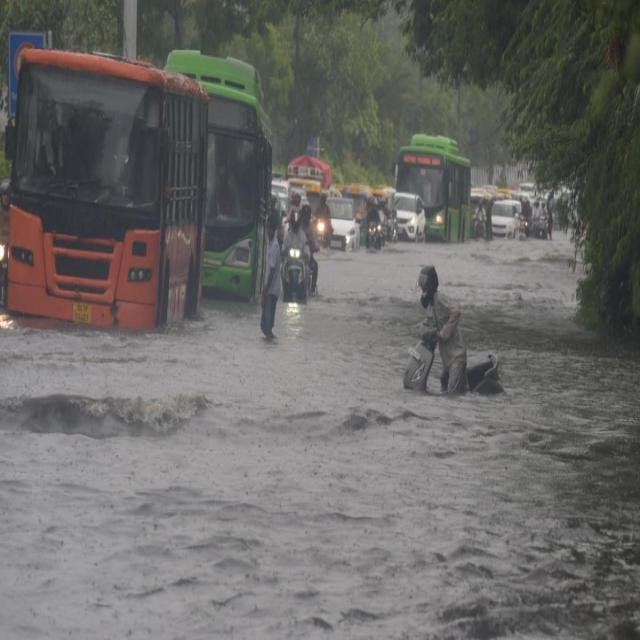BUS: (0, 58, 205, 345), (390, 129, 474, 247)
